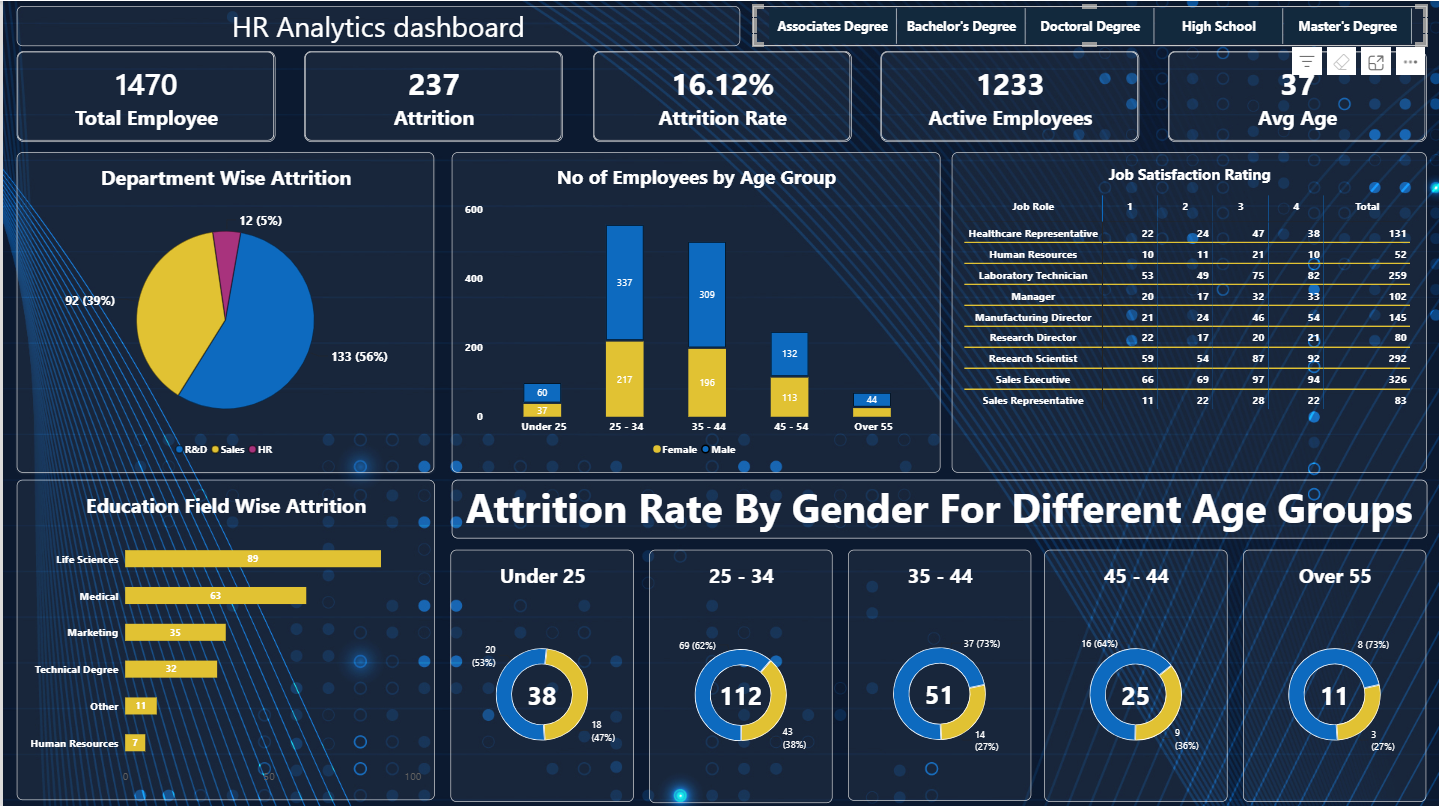

What the dashboard file says about the page in this screenshot:
{"tool":"powerbi","page":{"name":"Page 1","canvas":[1920,1080],"ordinal":0},"visuals":[{"type":"cardVisual","fields":{"Data":["Sum(HR data.Employee Count)"]},"box":[18.5,67.5,345.8,121.4],"z":0},{"type":"cardVisual","fields":{"Data":["Sum(HR data.Attrition count)"]},"box":[402.9,67.5,345.8,121.4],"z":1000},{"type":"cardVisual","fields":{"Data":["HR data.Attrition rate"]},"box":[787.3,67.5,345.8,121.4],"z":2000},{"type":"cardVisual","fields":{"Data":["HR data.Active Employees"]},"box":[1171.7,67.5,345.8,121.4],"z":3000},{"type":"cardVisual","fields":{"Data":["Avg(HR data.Age)"]},"box":[1556.1,67.5,345.8,121.4],"z":4000},{"type":"pieChart","title":"Department Wise Attrition ","fields":{"Category":["HR data.Department"],"Y":["Sum(HR data.Attrition count)"]},"box":[18.5,201.7,557.8,428.1],"z":5000},{"type":"columnChart","title":"No of Employees by Age Group","fields":{"Category":["HR data.CF_age band"],"Series":["HR data.Gender"],"Y":["Sum(HR data.Employee Count)"]},"box":[599,201.7,652.5,428.1],"z":6000},{"type":"pivotTable","title":"Job Satisfaction Rating","fields":{"Columns":["HR data.Environment Satisfaction"],"Rows":["HR data.Job Role"],"Values":["Sum(HR data.Employee Count)"]},"box":[1268,202,634,428],"z":7000},{"type":"barChart","title":"Education Field Wise Attrition","fields":{"Category":["HR data.Education Field"],"Y":["Sum(HR data.Attrition count)"]},"box":[19,640,558,428],"z":7001},{"type":"donutChart","title":"Under 25","fields":{"Category":["HR data.Gender"],"Series":["HR data.CF_age band"],"Y":["Sum(HR data.Attrition count)"]},"box":[598.2,732.5,244.8,336.8],"z":7002},{"type":"donutChart","title":"25 - 34","fields":{"Category":["HR data.Gender"],"Series":["HR data.CF_age band"],"Y":["Sum(HR data.Attrition count)"]},"box":[863.2,732.5,244.8,338.7],"z":7003},{"type":"donutChart","title":"35 - 44","fields":{"Category":["HR data.Gender"],"Series":["HR data.CF_age band"],"Y":["Sum(HR data.Attrition count)"]},"box":[1128.2,732.5,244.8,335],"z":7004},{"type":"donutChart","title":"45 - 44","fields":{"Category":["HR data.Gender"],"Series":["HR data.CF_age band"],"Y":["Sum(HR data.Attrition count)"]},"box":[1391.4,732.5,244.8,336.8],"z":7005},{"type":"donutChart","title":"Over 55","fields":{"Category":["HR data.Gender"],"Series":["HR data.CF_age band"],"Y":["Sum(HR data.Attrition count)"]},"box":[1656.5,732.5,244.8,336.8],"z":7006},{"type":"textbox","box":[599,640.1,1302.9,78.2],"z":7007},{"type":"textbox","box":[18.9,6.7,966.7,53.3],"z":7008},{"type":"slicer","fields":{"Values":["HR data.Education"]},"box":[1002.4,6.2,899.5,53.5],"z":7009}]}

Visuals, with their boxes in screenshot pixels (x1, y1, x2, y2), scaled from the page's 1920x1080 canvas onto the 1439x806 screenshot:
cardVisual - Sum(HR data.Employee Count): (left=14, top=50, right=273, bottom=141)
cardVisual - Sum(HR data.Attrition count): (left=302, top=50, right=561, bottom=141)
cardVisual - HR data.Attrition rate: (left=590, top=50, right=849, bottom=141)
cardVisual - HR data.Active Employees: (left=878, top=50, right=1137, bottom=141)
cardVisual - Avg(HR data.Age): (left=1166, top=50, right=1425, bottom=141)
"Department Wise Attrition " pieChart: (left=14, top=151, right=432, bottom=470)
"No of Employees by Age Group" columnChart: (left=449, top=151, right=938, bottom=470)
"Job Satisfaction Rating" pivotTable: (left=950, top=151, right=1426, bottom=470)
"Education Field Wise Attrition" barChart: (left=14, top=478, right=432, bottom=797)
"Under 25" donutChart: (left=448, top=547, right=632, bottom=798)
"25 - 34" donutChart: (left=647, top=547, right=830, bottom=799)
"35 - 44" donutChart: (left=846, top=547, right=1029, bottom=797)
"45 - 44" donutChart: (left=1043, top=547, right=1226, bottom=798)
"Over 55" donutChart: (left=1242, top=547, right=1425, bottom=798)
textbox: (left=449, top=478, right=1425, bottom=536)
textbox: (left=14, top=5, right=739, bottom=45)
slicer - HR data.Education: (left=751, top=5, right=1425, bottom=45)
